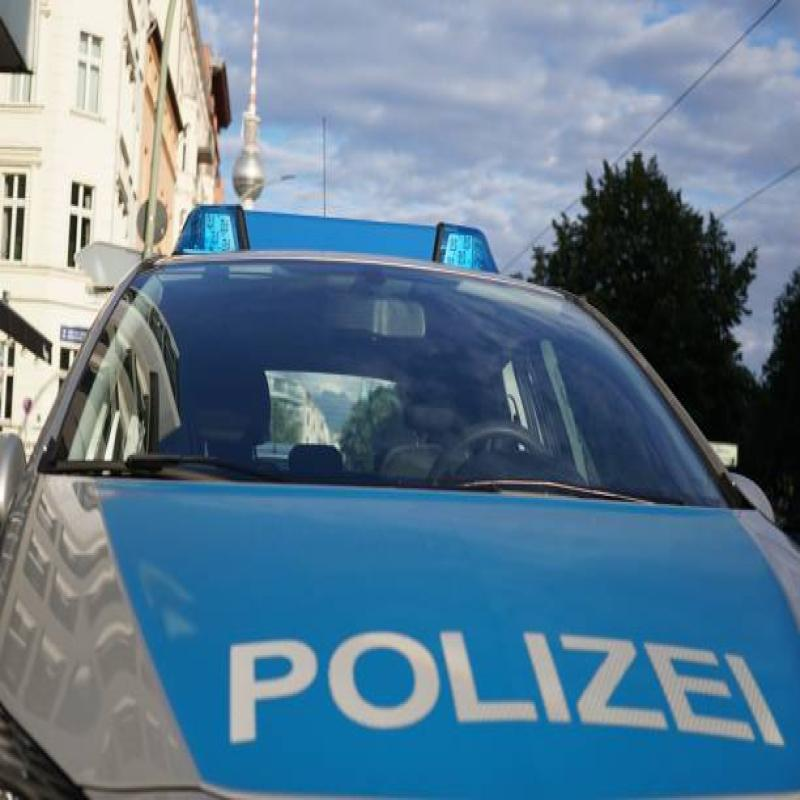AmbulanceSiren: (171, 178, 503, 316)
